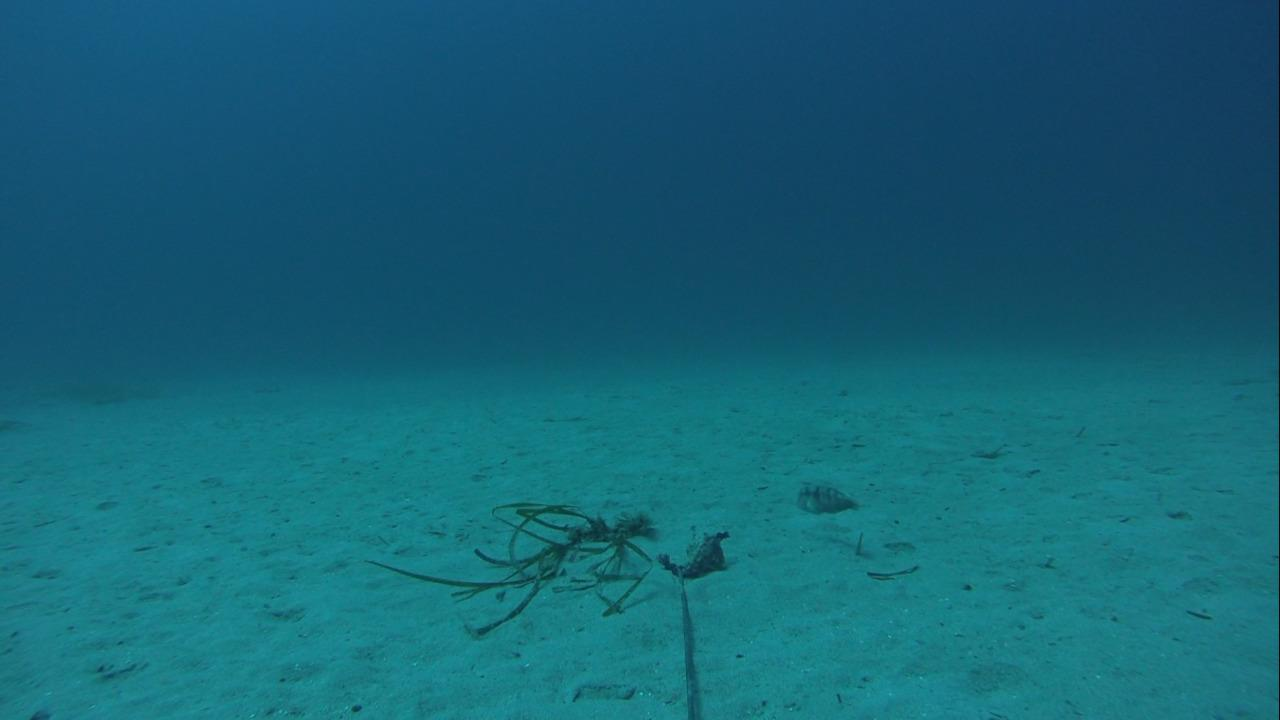raor: (790, 475, 859, 515)
